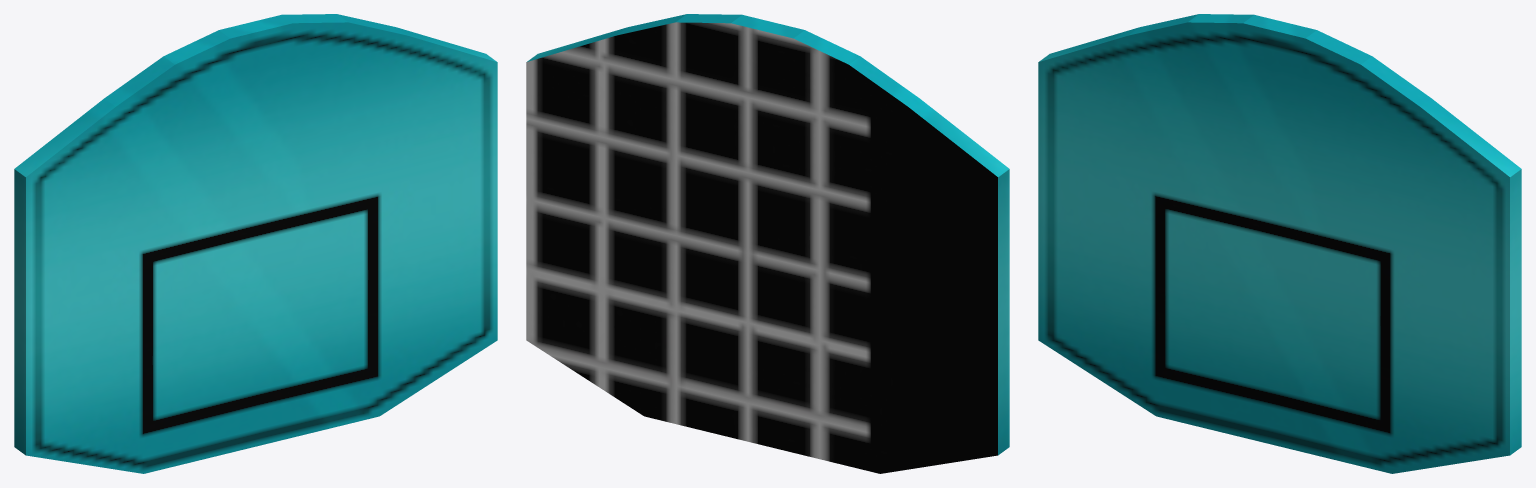
Rendered from Board Ring.FBX.
3 renders of one model, left to right at view 1: azimuth 30°, elevation 25°; view 2: azimuth 150°, elevation 25°; view 3: azimuth 330°, elevation 25°, orthographic.
Visible parts, largest first — view 1: Board Ring; view 2: Board Ring; view 3: Board Ring.
Part boxes in pixels (left/top/right/bottom): Board Ring: left=14, top=14, right=497, bottom=473; Board Ring: left=526, top=14, right=1009, bottom=473; Board Ring: left=1038, top=14, right=1521, bottom=473.
Bounding box in the file's own units: 22.14 × 18.58 × 0.9375.
